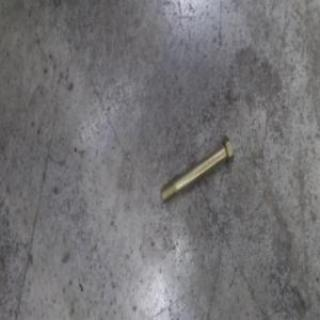Bolttrack_idkeyframe: (157, 132, 233, 204)
